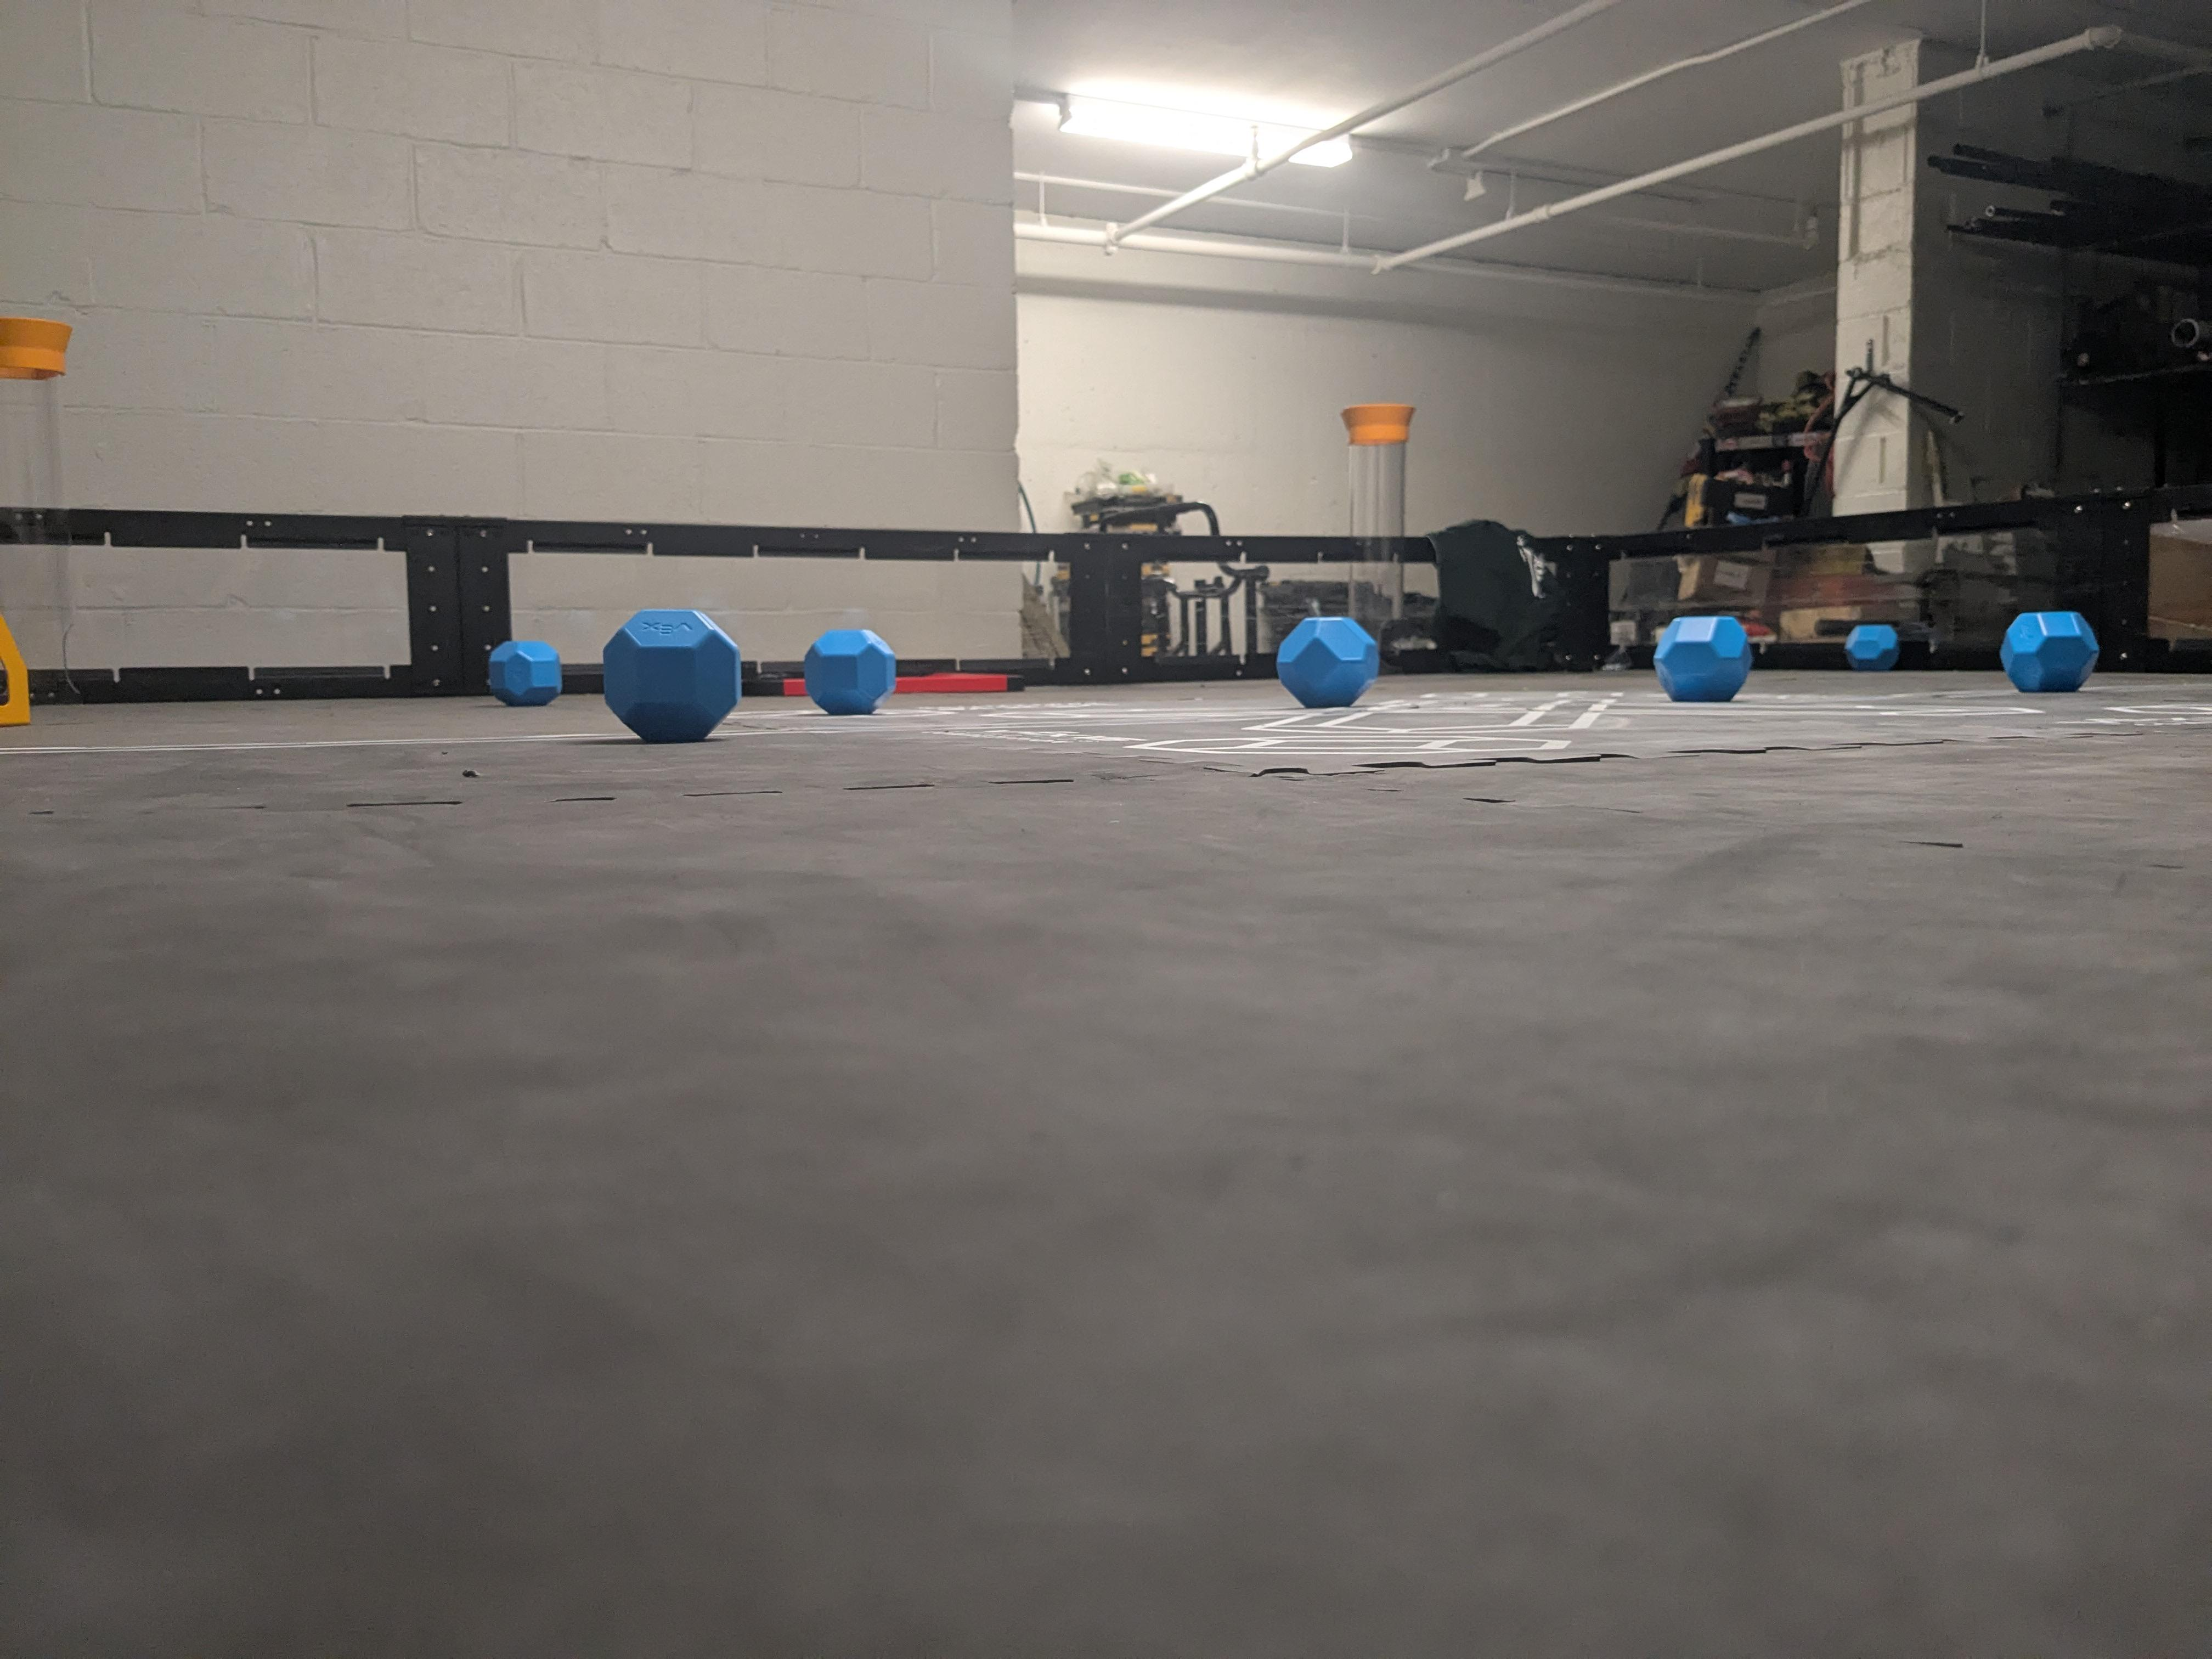Vex-Pieces-BLUE: (601, 608, 742, 741), (1655, 617, 1752, 702), (1278, 619, 1378, 702), (805, 629, 894, 716), (2000, 613, 2097, 692), (488, 640, 563, 702), (1844, 624, 1898, 671)
